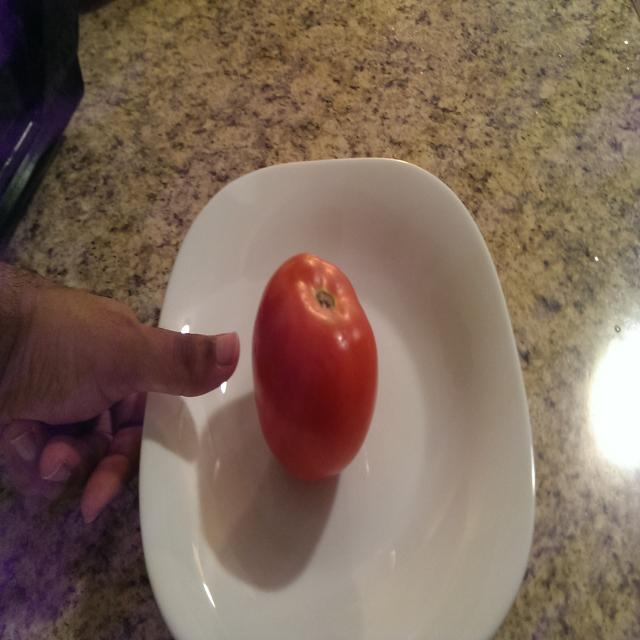tomato: (252, 252, 378, 481)
